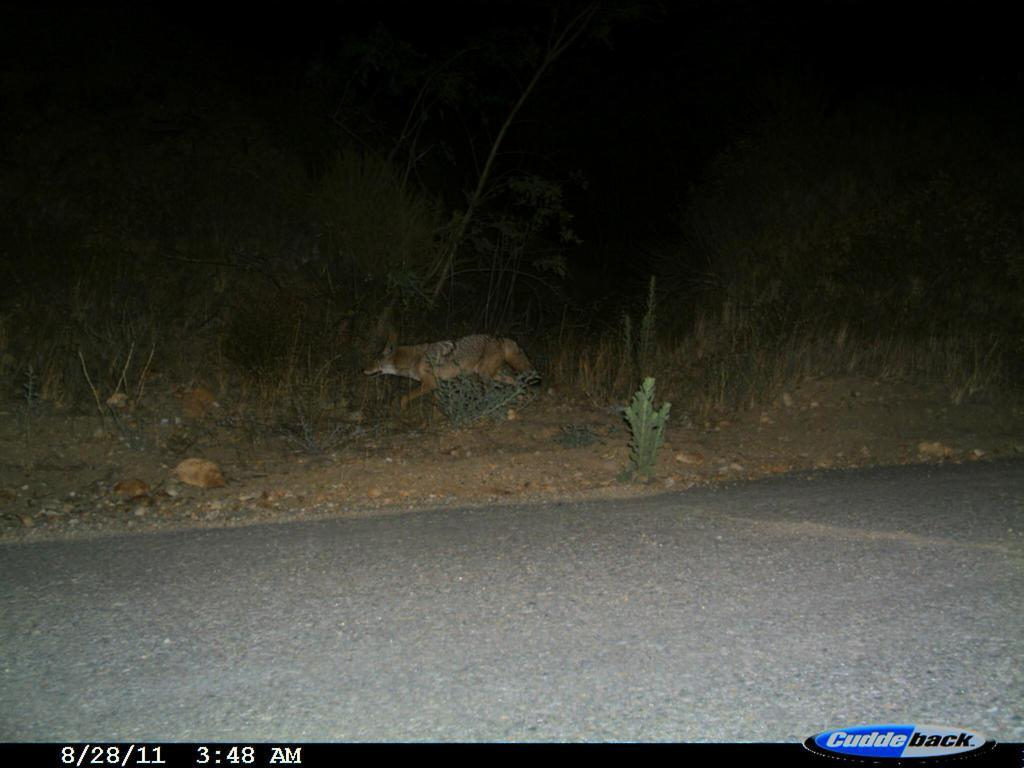coyote: (356, 319, 541, 431)
